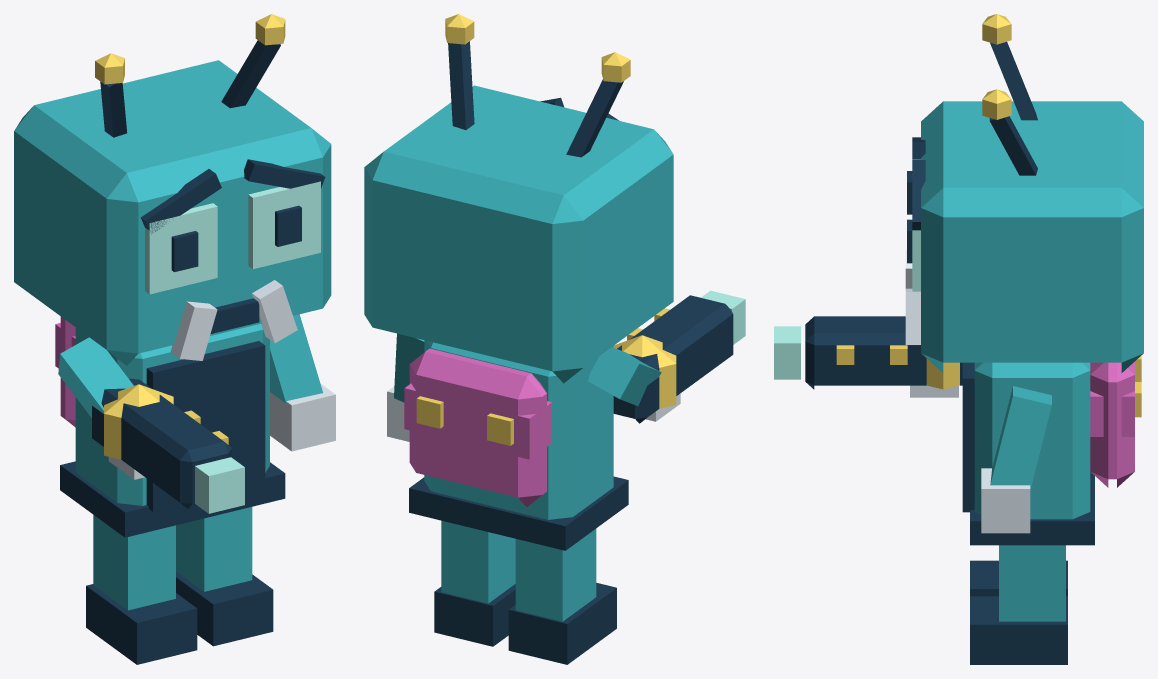
File: gunner_r12.glb
The picture shows the model from 3 angles, left to right: view 1: azimuth 30°, elevation 25°; view 2: azimuth 150°, elevation 25°; view 3: azimuth 270°, elevation 25°; orthographic projection. The views are drawn at different scales.
Visible parts, largest first — view 1: gunner_r12_mesh; view 2: gunner_r12_mesh; view 3: gunner_r12_mesh.
Boxes of the visible parts, x1,y1,x2,y2 form: gunner_r12_mesh: [14, 14, 335, 664]; gunner_r12_mesh: [364, 14, 745, 664]; gunner_r12_mesh: [774, 14, 1143, 664].
Size of the model in its own units: 0.7047 by 1.6 by 0.9222.
Materials: 1 (1 with a texture image).
